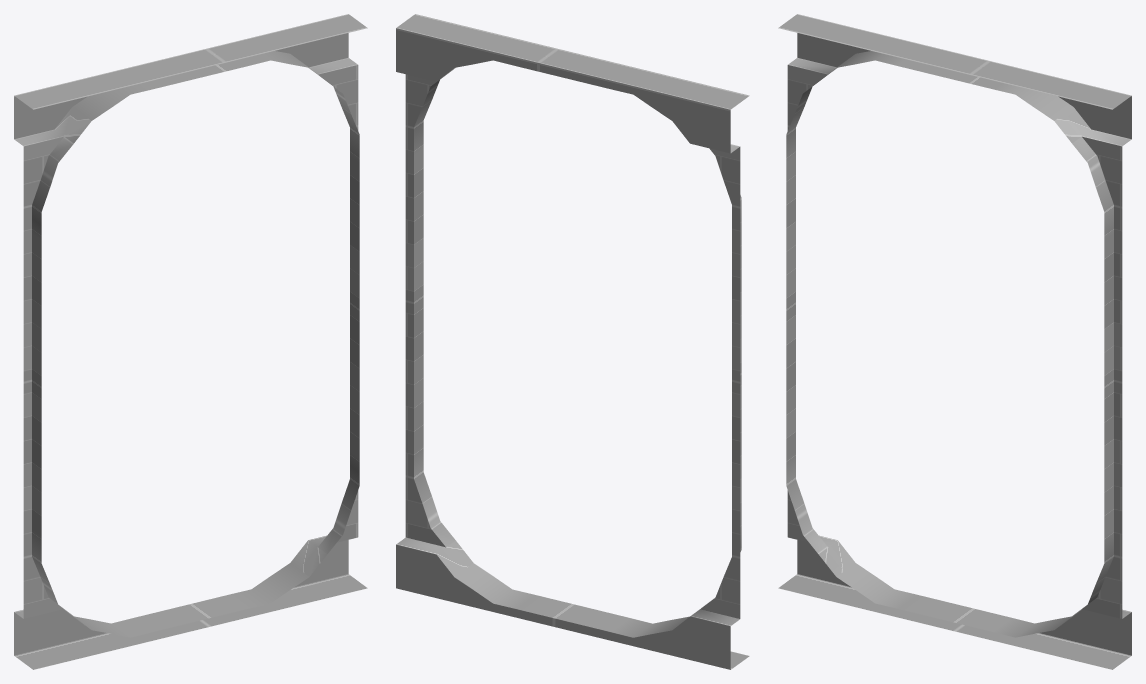
The model's file is proto_open_space_door_01.fbx.
3 renders of one model, left to right at view 1: azimuth 30°, elevation 25°; view 2: azimuth 150°, elevation 25°; view 3: azimuth 330°, elevation 25°, orthographic.
Visible parts, largest first — view 1: proto_open_space_door_01; view 2: proto_open_space_door_01; view 3: proto_open_space_door_01.
Boxes of the visible parts, x1=… form: proto_open_space_door_01: x1=14, y1=14, x2=367, y2=669; proto_open_space_door_01: x1=396, y1=14, x2=749, y2=669; proto_open_space_door_01: x1=778, y1=14, x2=1131, y2=669.
Bounding box in the file's own units: 200 × 320 × 20.
